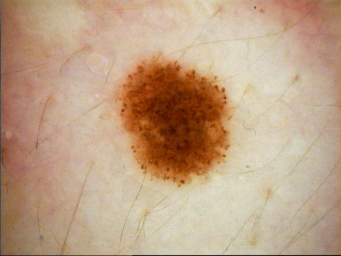melanoma: (120, 58, 231, 185)
